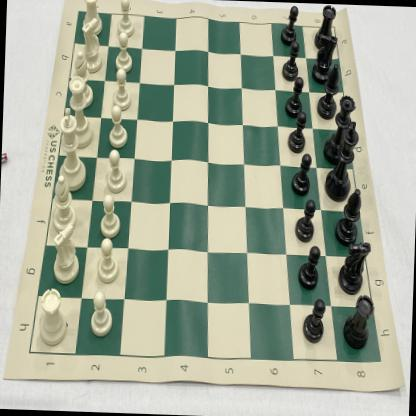bishop: (335, 187, 362, 245), (52, 174, 78, 232), (72, 51, 95, 109), (317, 64, 340, 119)
king: (324, 119, 358, 202), (57, 107, 88, 192)
knight: (50, 223, 82, 284), (338, 241, 371, 295), (312, 34, 339, 84), (80, 18, 104, 74)
pawn: (96, 193, 122, 240), (88, 292, 114, 338), (96, 238, 120, 284), (302, 299, 326, 344), (298, 245, 321, 290), (107, 104, 130, 148), (290, 154, 312, 197), (106, 150, 128, 193), (286, 112, 308, 154), (295, 200, 315, 242), (284, 76, 304, 118), (113, 69, 132, 112), (114, 32, 134, 72), (117, 0, 137, 39), (281, 5, 300, 46), (281, 42, 300, 81)
queen: (324, 94, 356, 164), (66, 75, 96, 149)
rook: (342, 294, 374, 350), (38, 287, 68, 346), (315, 4, 337, 50), (82, 0, 105, 37)
